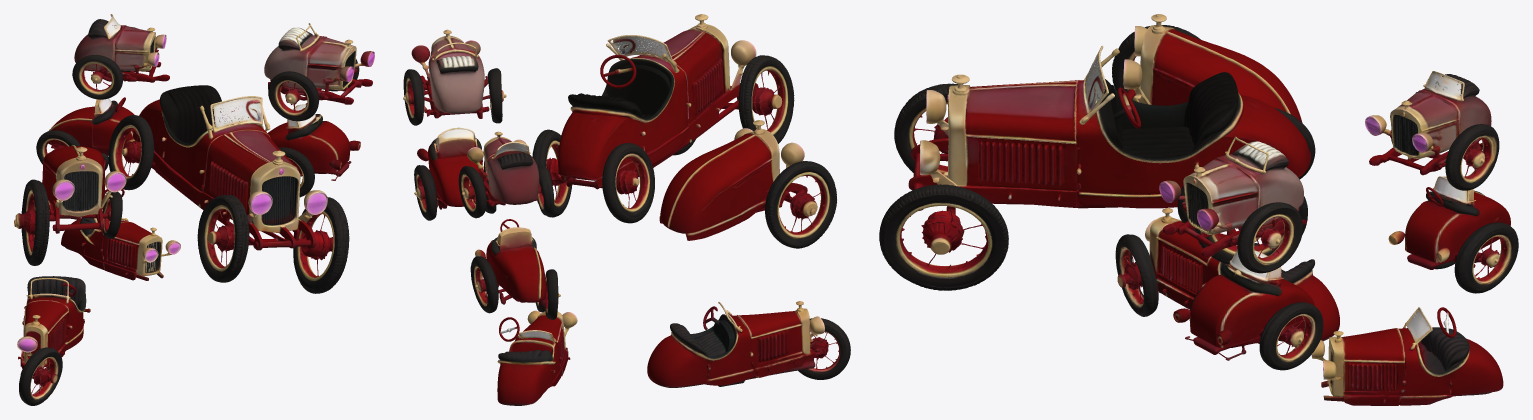
The model's file is car-parts.glb.
The picture shows the model from 3 angles, left to right: view 1: azimuth 30°, elevation 25°; view 2: azimuth 150°, elevation 25°; view 3: azimuth 270°, elevation 25°; orthographic projection. The views are drawn at different scales.
Parts seen in each view (by area): view 1: model; view 2: model; view 3: model.
Boxes of the visible parts, bbox=[...] form: model: bbox=[14, 14, 374, 405]; model: bbox=[403, 14, 850, 405]; model: bbox=[879, 14, 1518, 405].
Size of the model in its own units: 1.84 by 1.24 by 1.9.
1 material, 1 textured.
